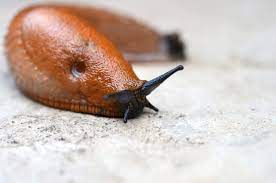slug: (10, 4, 182, 117)
